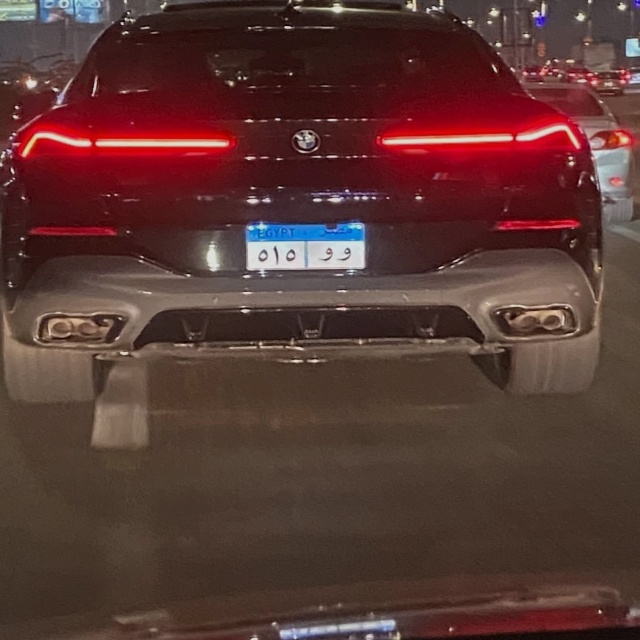License Plate: (242, 222, 369, 273)
